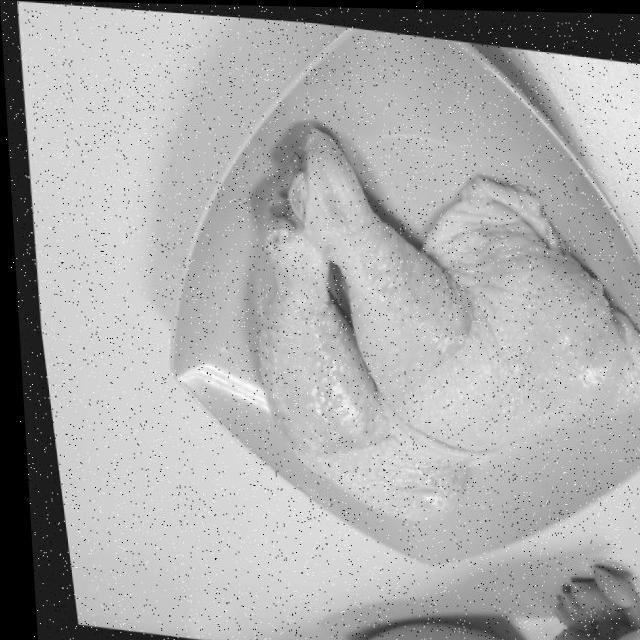quater: (280, 125, 639, 438), (227, 210, 454, 518)
